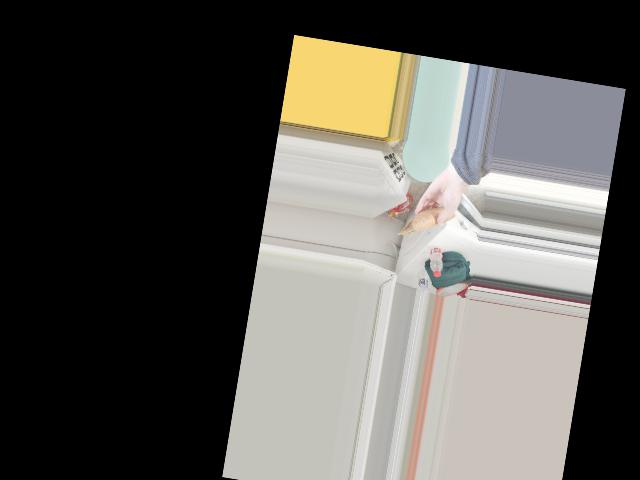sweet_potato: (414, 200, 451, 234)
